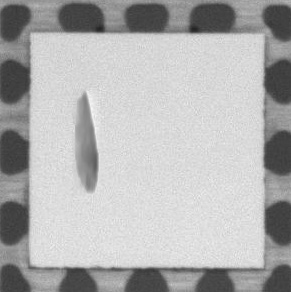DIE_INK: (70, 91, 97, 190)
